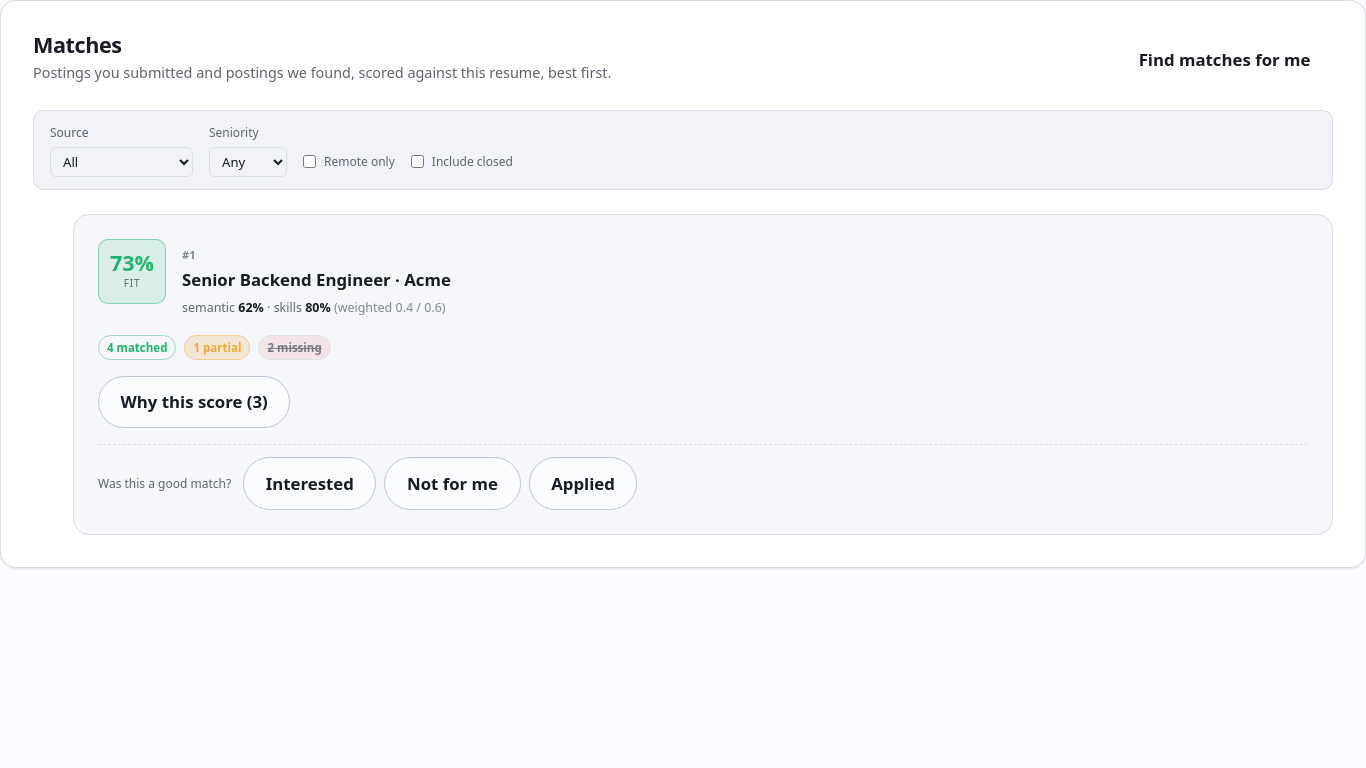
the breakdown › puts a missing required skill first, whatever order the API sent
Click the button "Why this score (3)".
click(194, 402)  # box left=98, top=376, right=290, bottom=428
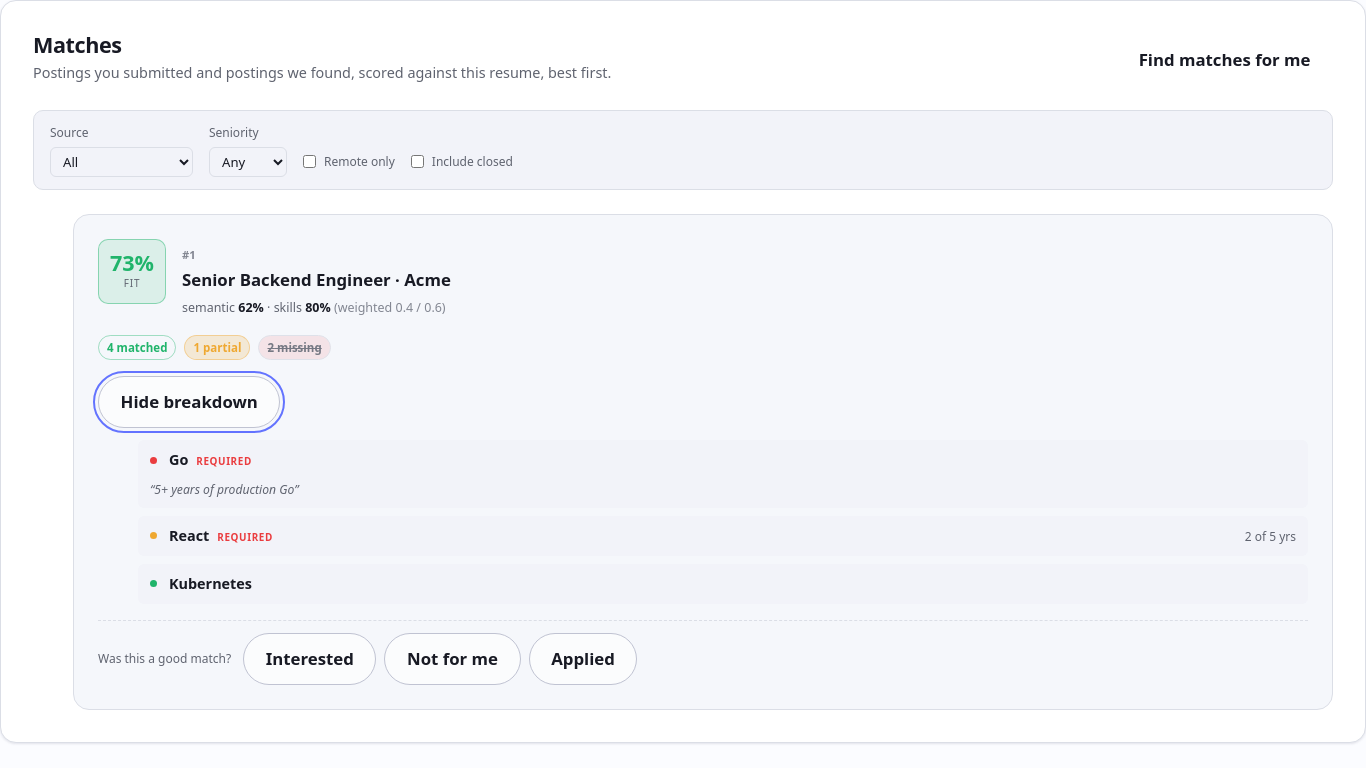
Expected: the element with class "mf-skill-name" shows "Go", left=169, top=450, right=252, bottom=469
Expected: the element with class "mf-skill-name" shows "React", left=169, top=526, right=209, bottom=545
Expected: the text with class "mf-skill-name" reads "Kubernetes", left=169, top=574, right=252, bottom=593
